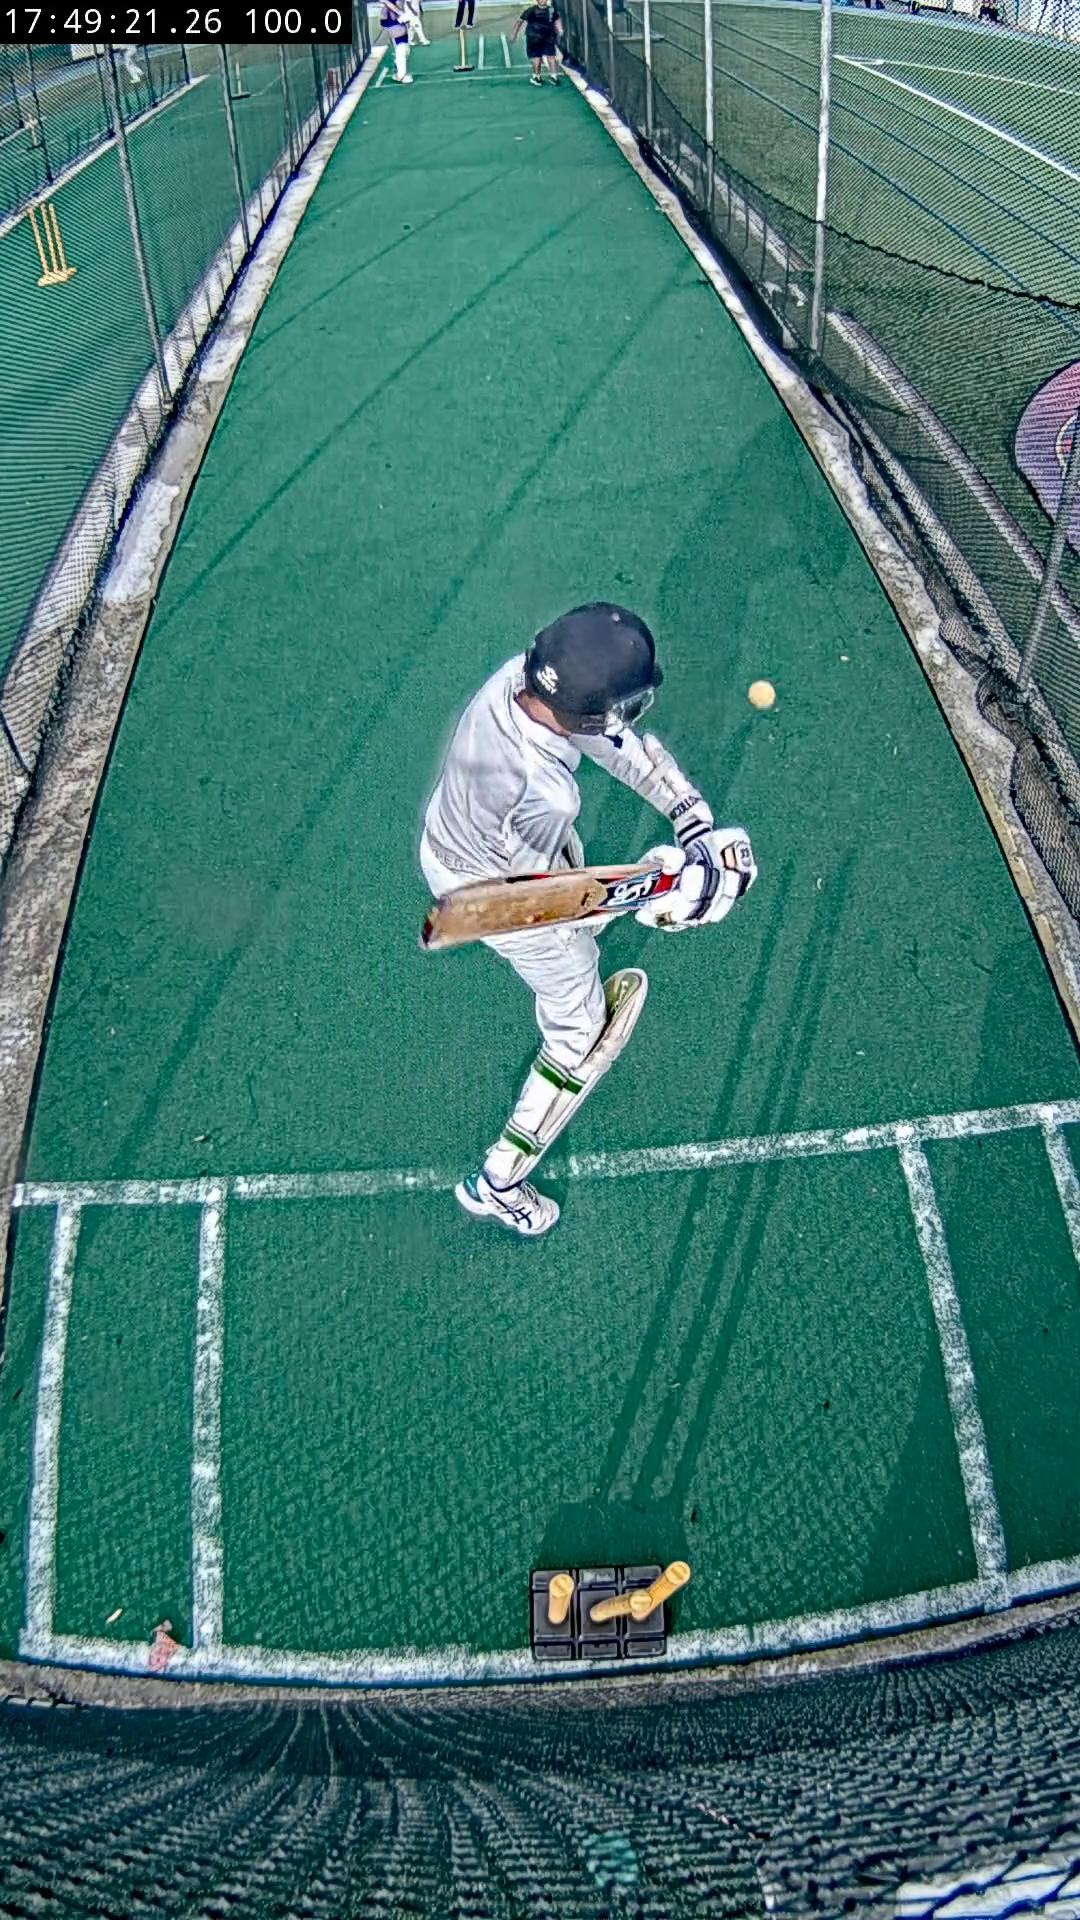ball: (746, 679, 777, 708)
bat: (419, 862, 675, 948)
gloves: (637, 828, 757, 930)
helmet: (525, 600, 663, 735)
pads: (533, 968, 649, 1160)
stumps: (529, 1564, 690, 1662)
